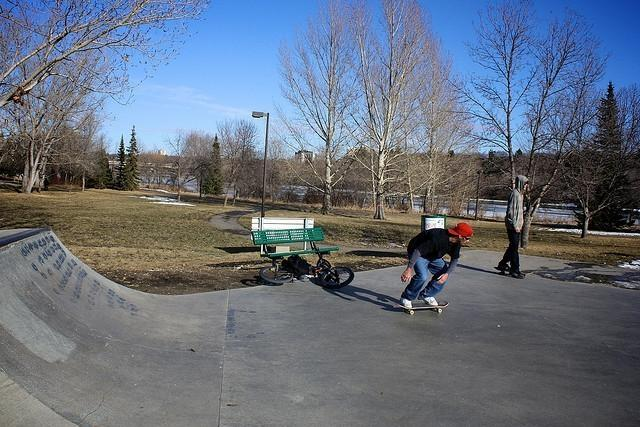bicycle: (260, 241, 354, 288)
